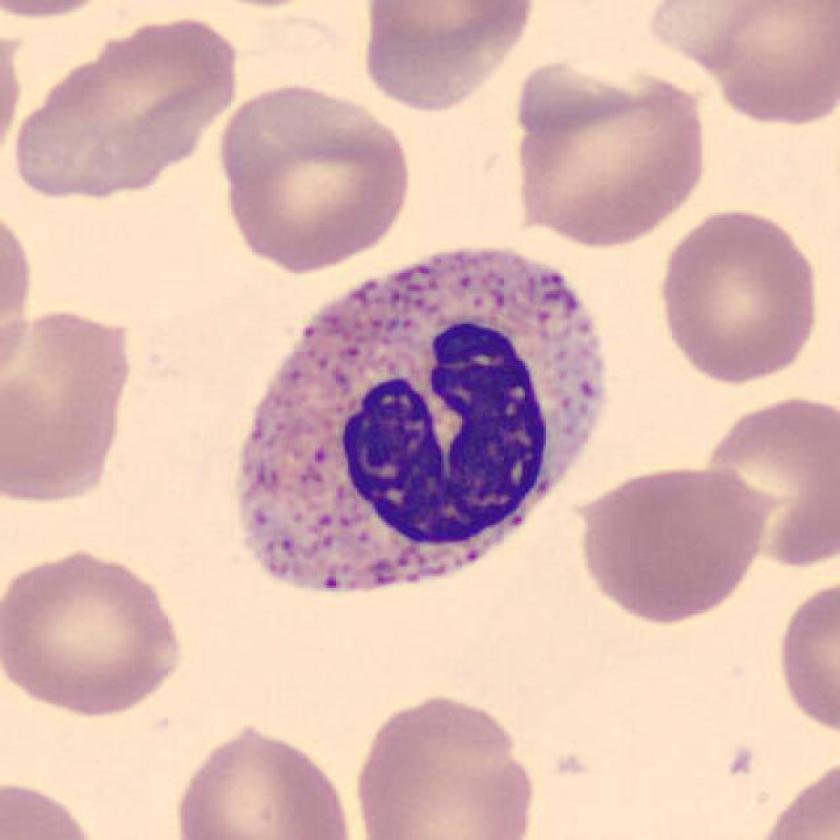neutrophil: (241, 246, 606, 593)
